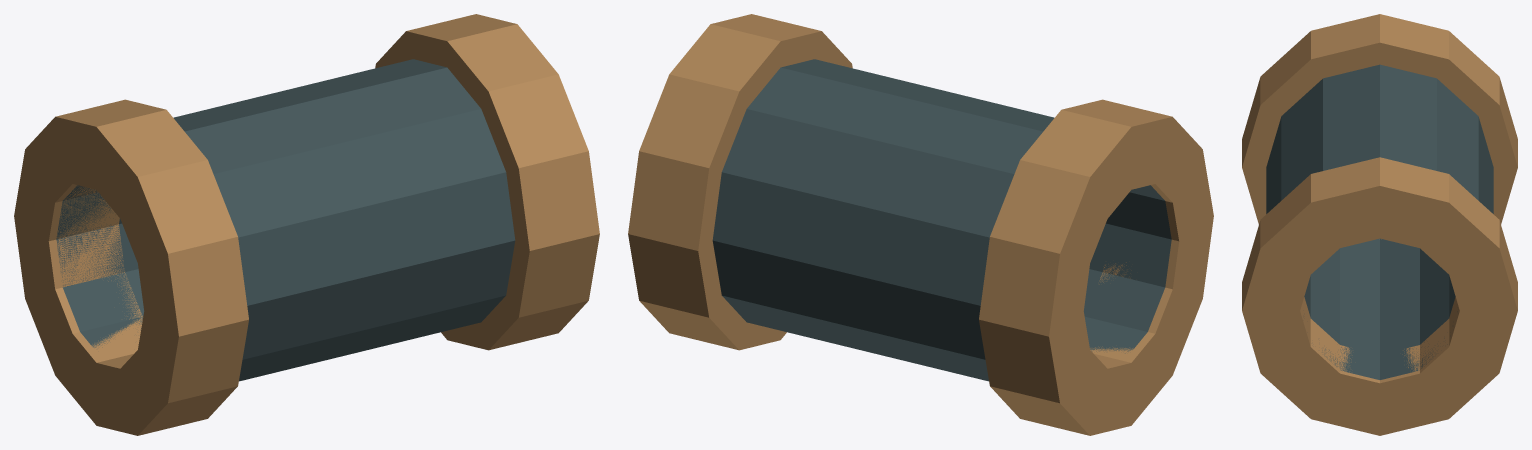
The model's file is w6c-bridge-rope-ferrule.glb.
3 renders of one model, left to right at view 1: azimuth 30°, elevation 25°; view 2: azimuth 150°, elevation 25°; view 3: azimuth 270°, elevation 25°, orthographic. The views are drawn at different scales.
Visible parts, largest first — view 1: Rope ferrule; view 2: Rope ferrule; view 3: Rope ferrule.
Boxes of the visible parts, x1,y1,x2,y2 form: Rope ferrule: (14,14,599,435); Rope ferrule: (628,14,1213,435); Rope ferrule: (1242,14,1517,435).
Bounding box in the file's own units: 0.168 × 0.114 × 0.114.
